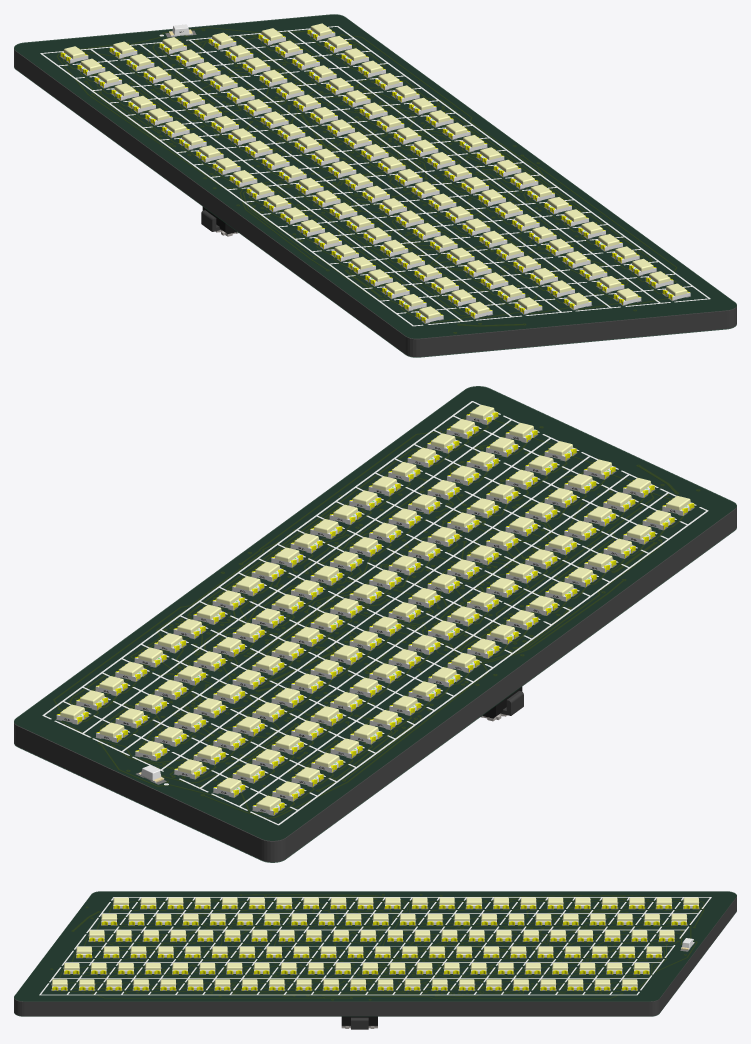
The model's file is board.glb.
The picture shows the model from 3 angles, top to bottom: view 1: azimuth 30°, elevation 25°; view 2: azimuth 150°, elevation 25°; view 3: azimuth 270°, elevation 25°; orthographic projection. The views are drawn at different scales.
Visible parts, largest first — view 1: parallelogram_soldermask (×2), parallelogram_PCB, parallelogram_silkscreen, parallelogram_pad, parallelogram_copper; view 2: parallelogram_soldermask (×2), parallelogram_PCB, parallelogram_silkscreen, parallelogram_copper, parallelogram_pad; view 3: parallelogram_soldermask (×2), parallelogram_PCB, parallelogram_silkscreen, parallelogram_pad, parallelogram_copper, SW-SMD_EVQP7C01P-L3.6-W3.5-H1.4-P3.6-LS4.7.
Boxes of the visible parts, x1,y1,x2,y2 form: parallelogram_soldermask (×2): [14, 14, 736, 357]; parallelogram_PCB: [14, 15, 736, 357]; parallelogram_silkscreen: [40, 26, 710, 326]; parallelogram_pad: [60, 30, 690, 323]; parallelogram_copper: [57, 28, 676, 333]; parallelogram_soldermask (×2): [14, 386, 736, 862]; parallelogram_PCB: [14, 387, 736, 862]; parallelogram_silkscreen: [42, 401, 708, 825]; parallelogram_copper: [54, 417, 699, 817]; parallelogram_pad: [56, 416, 694, 815]; parallelogram_soldermask (×2): [14, 891, 736, 1016]; parallelogram_PCB: [14, 892, 736, 1016]; parallelogram_silkscreen: [39, 897, 711, 995]; parallelogram_pad: [51, 902, 699, 990]; parallelogram_copper: [52, 895, 703, 998]; SW-SMD_EVQP7C01P-L3.6-W3.5-H1.4-P3.6-LS4.7: [341, 1016, 377, 1029].
Bounding box in the file's own units: 0.0259 × 0.00363 × 0.0693.
